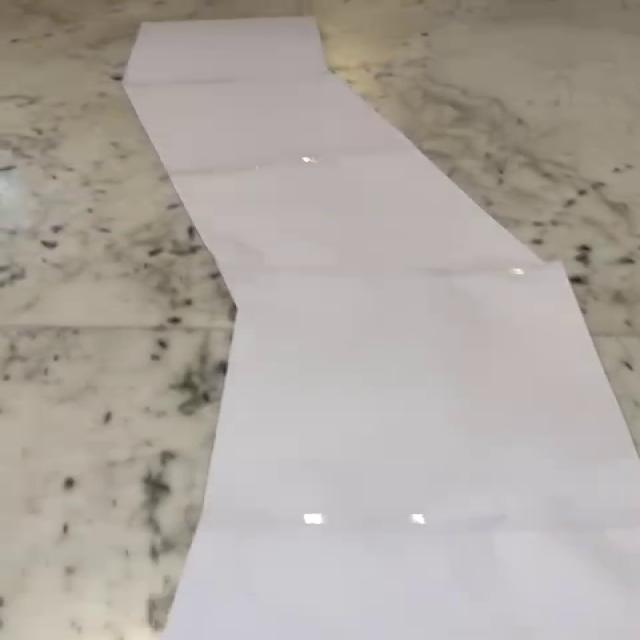road: (125, 17, 637, 640)
